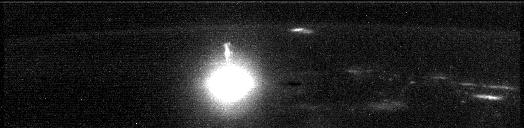positive: (218, 40, 238, 67)
